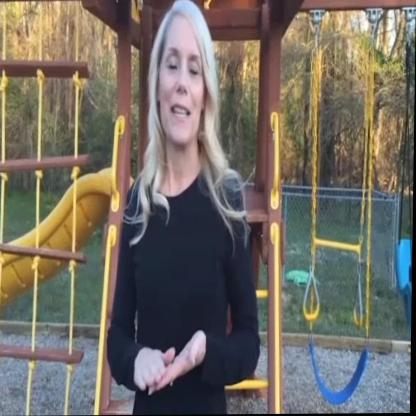ExcuseMe: (124, 323, 218, 406)
